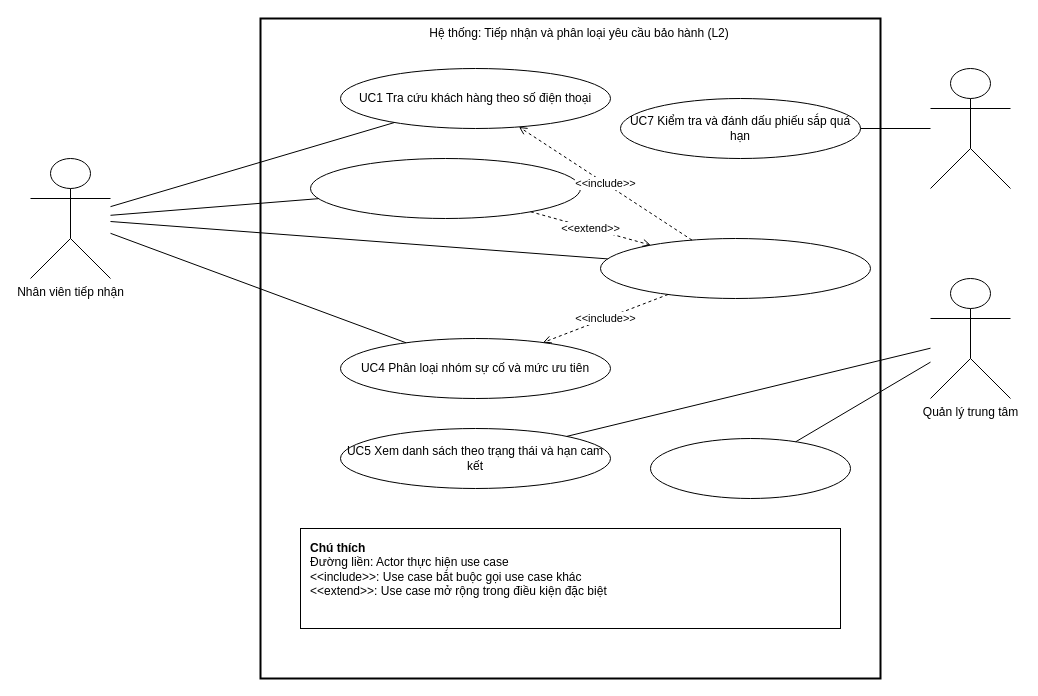
The diagram is 1038 pixels wide and 696 high, and some of its shapes have lost their labels. Here are the shapes that lost their labels. From the top down, the centre of each, then its label:
At (x=970, y=128): "Hệ thống nhắc hạn".
At (x=445, y=188): "UC2 Tạo khách hàng mới".
At (x=735, y=268): "UC3 Tạo phiếu bảo hành mới".
At (x=750, y=468): "UC6 Cập nhật trạng thái phiếu".
